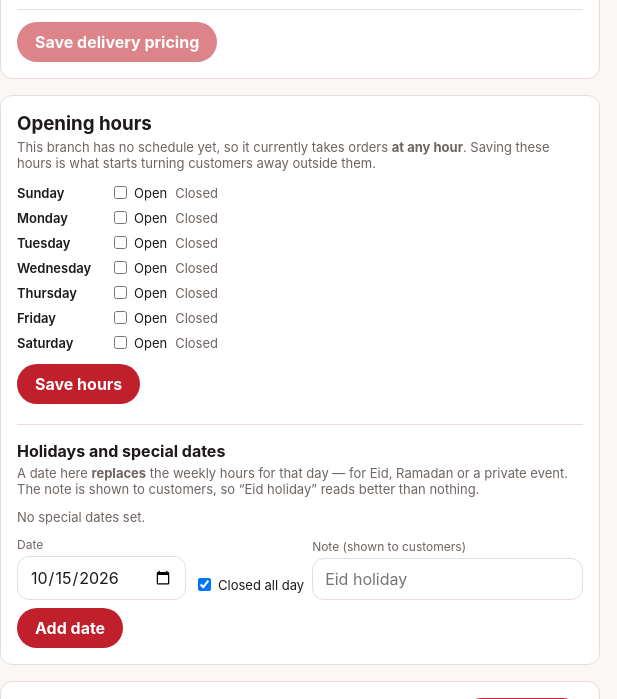
Test: Branch settings — opening hours › says so when a save is refused, rather than looking like it worked
(page scrolled)
Expected: the heading "Opening hours" is shown, [17,112,152,135]
Click the button "Save hours". click: [79, 384]
box: [17,364,140,404]
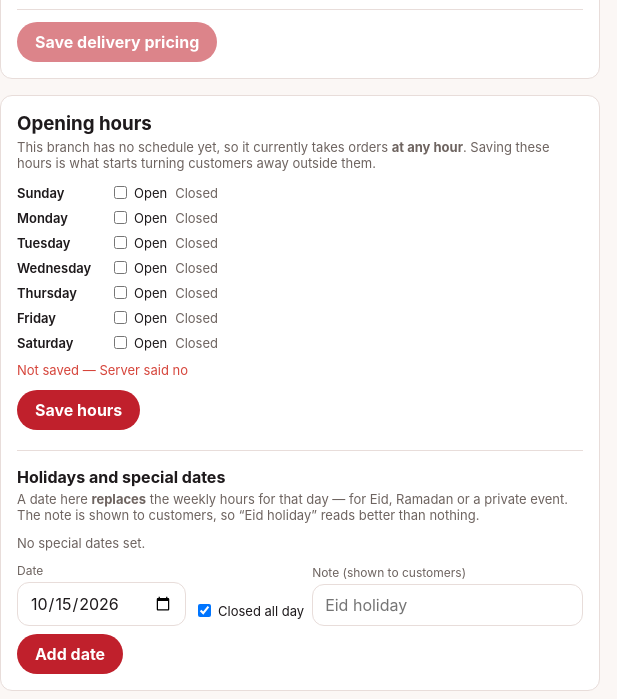
Expected: the message shows "Server said no", [99,362,188,378]
